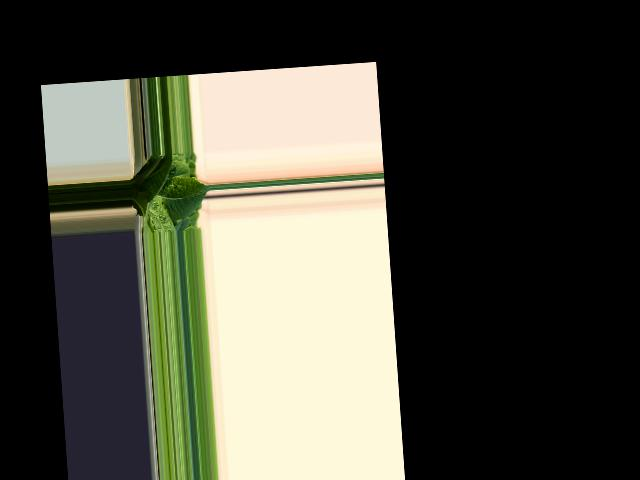lettuce: (128, 153, 204, 226)
